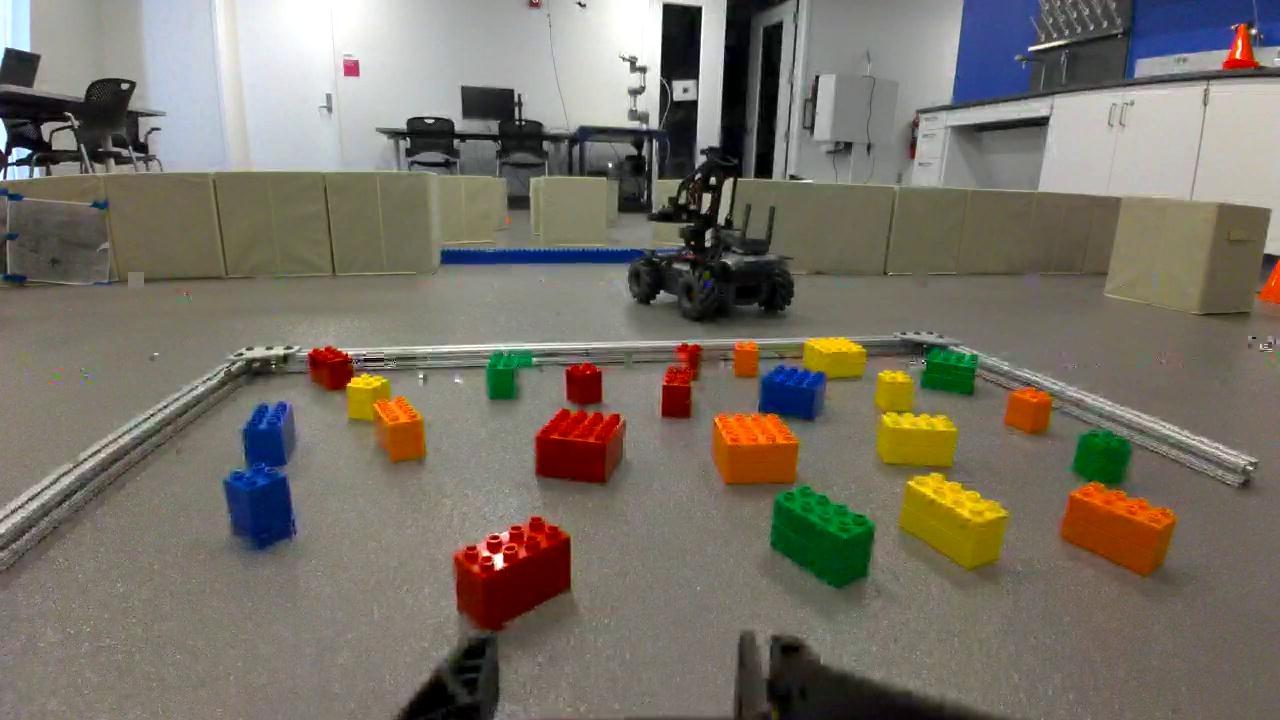2x2lego: (1070, 426, 1135, 486), (1003, 385, 1055, 435), (346, 374, 389, 421), (873, 369, 915, 412), (732, 338, 761, 380), (674, 342, 701, 364)
2x4lego: (455, 516, 573, 627), (1059, 478, 1178, 577), (900, 469, 1009, 570), (770, 484, 874, 588), (223, 461, 298, 547), (877, 411, 961, 466), (372, 395, 428, 463), (242, 401, 299, 463), (305, 345, 356, 391), (564, 358, 604, 409), (661, 361, 695, 419), (485, 348, 520, 402)
4x4lego: (532, 407, 628, 485), (709, 411, 801, 485), (758, 364, 829, 417), (920, 346, 979, 396), (804, 335, 867, 371)
